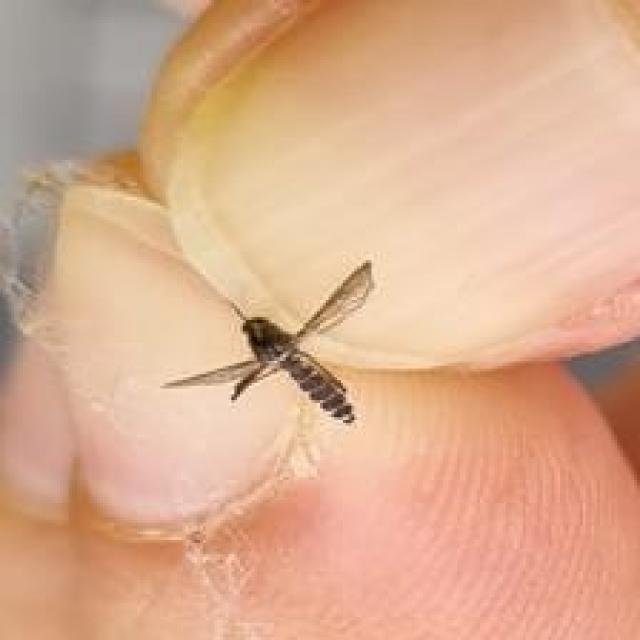Aedes albopictus: (158, 259, 376, 427)
